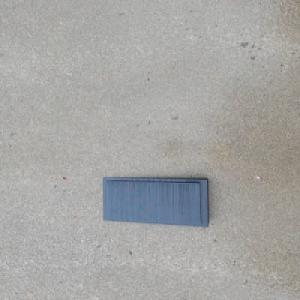PlasticPart: (101, 176, 210, 227)
